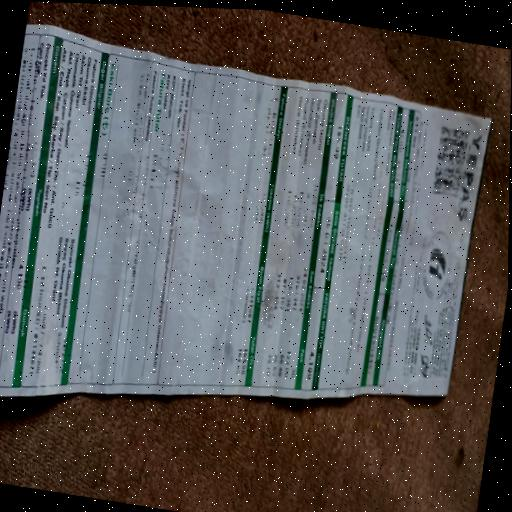electricity-bill: (0, 24, 491, 398)
